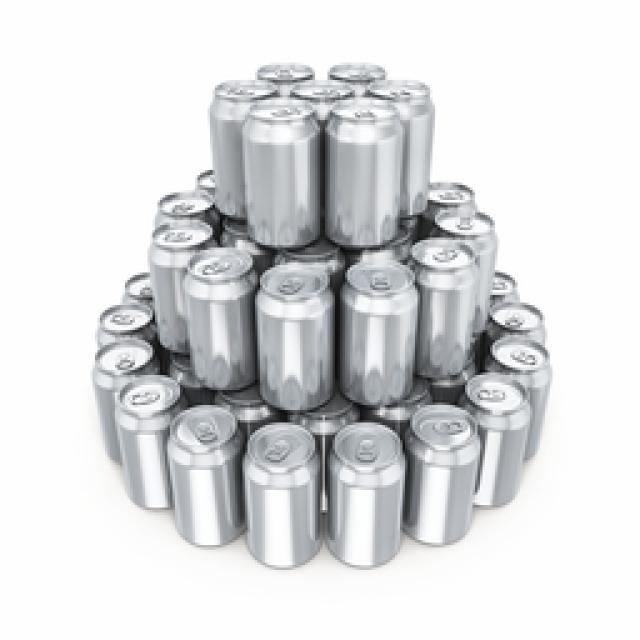aluminum_soda_cans: (252, 275, 340, 415), (243, 420, 317, 575), (328, 112, 407, 243), (350, 266, 422, 406), (325, 430, 402, 558), (410, 405, 475, 552), (162, 405, 238, 528), (242, 115, 316, 235)
